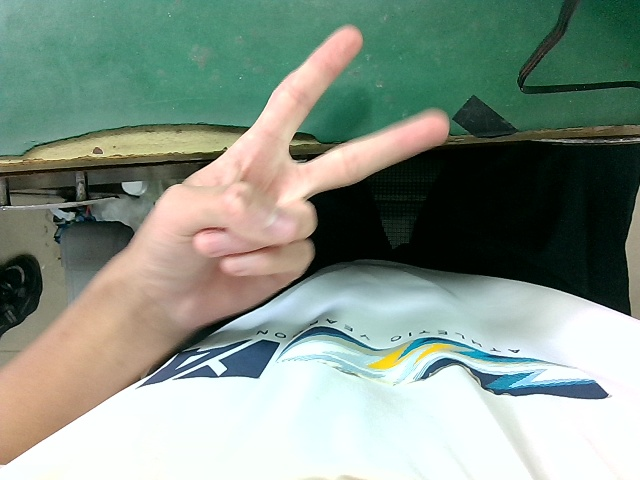scissor: (128, 21, 460, 337)
